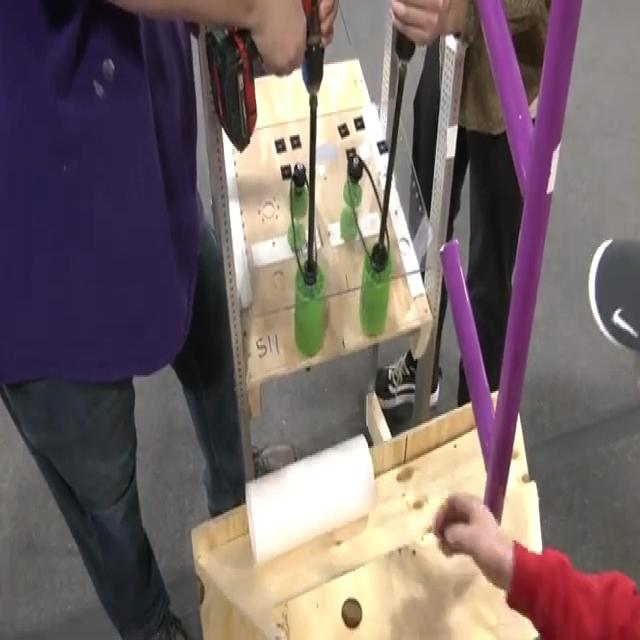Coral: (243, 430, 376, 566)
